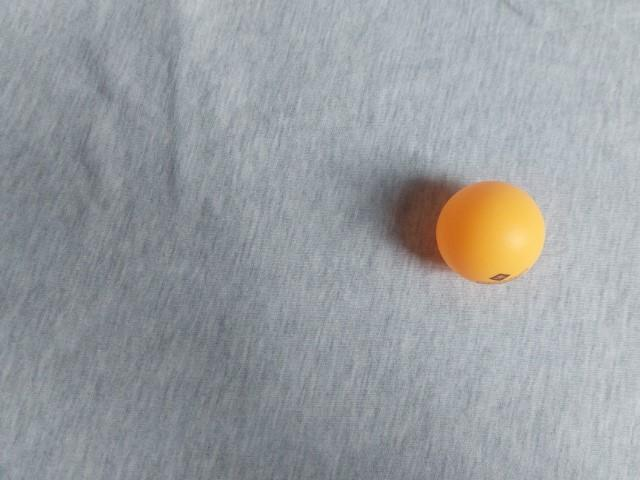oball: (86, 188, 211, 306)
